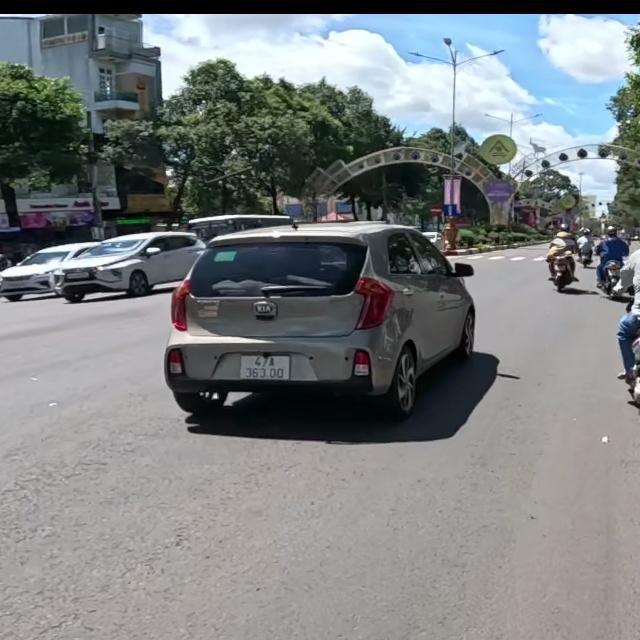car: (163, 219, 484, 436), (58, 224, 210, 302), (0, 237, 87, 303)
motorcycle: (547, 252, 576, 296), (596, 256, 623, 296)
plate: (240, 351, 294, 387)
